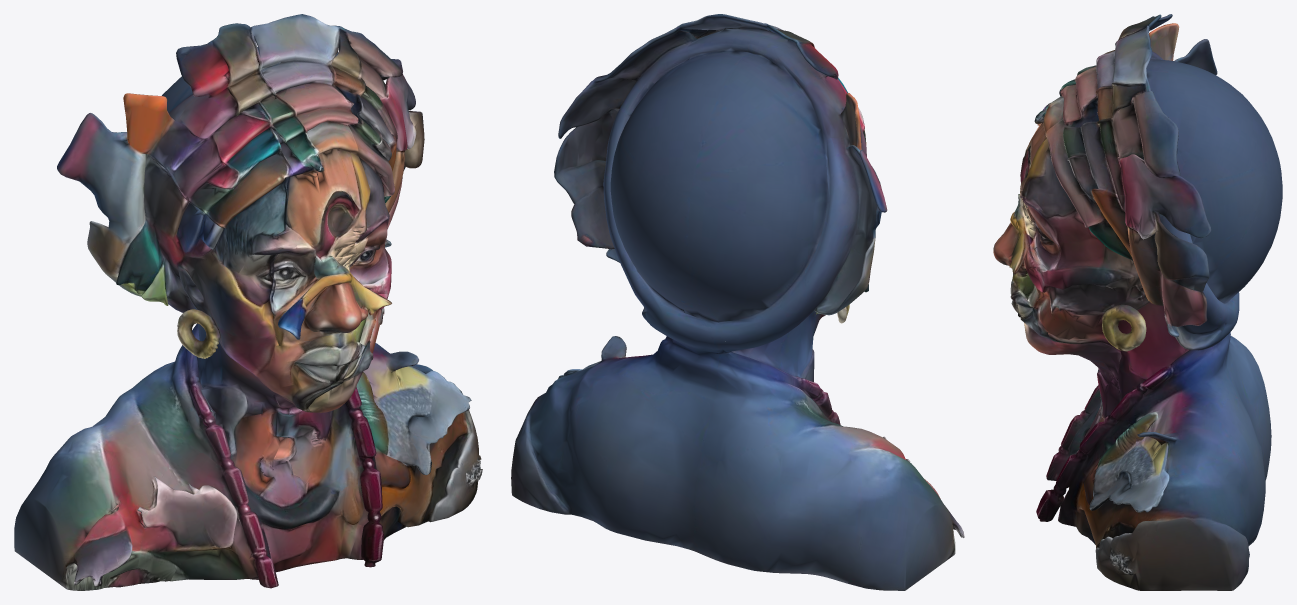
The model's file is portrait-cubiste.glb.
The picture shows the model from 3 angles, left to right: view 1: azimuth 30°, elevation 25°; view 2: azimuth 150°, elevation 25°; view 3: azimuth 270°, elevation 25°; orthographic projection. The views are drawn at different scales.
Visible parts, largest first — view 1: tripo_node_14d133b5-c703-426f-bbb8-a77c5e5405ab; view 2: tripo_node_14d133b5-c703-426f-bbb8-a77c5e5405ab; view 3: tripo_node_14d133b5-c703-426f-bbb8-a77c5e5405ab.
Boxes of the visible parts, x1,y1,x2,y2 form: tripo_node_14d133b5-c703-426f-bbb8-a77c5e5405ab: [14, 14, 482, 590]; tripo_node_14d133b5-c703-426f-bbb8-a77c5e5405ab: [511, 14, 964, 590]; tripo_node_14d133b5-c703-426f-bbb8-a77c5e5405ab: [993, 14, 1282, 590].
Bounding box in the file's own units: 0.8268 × 0.9787 × 0.5464.
Materials: 1 (1 with a texture image).
